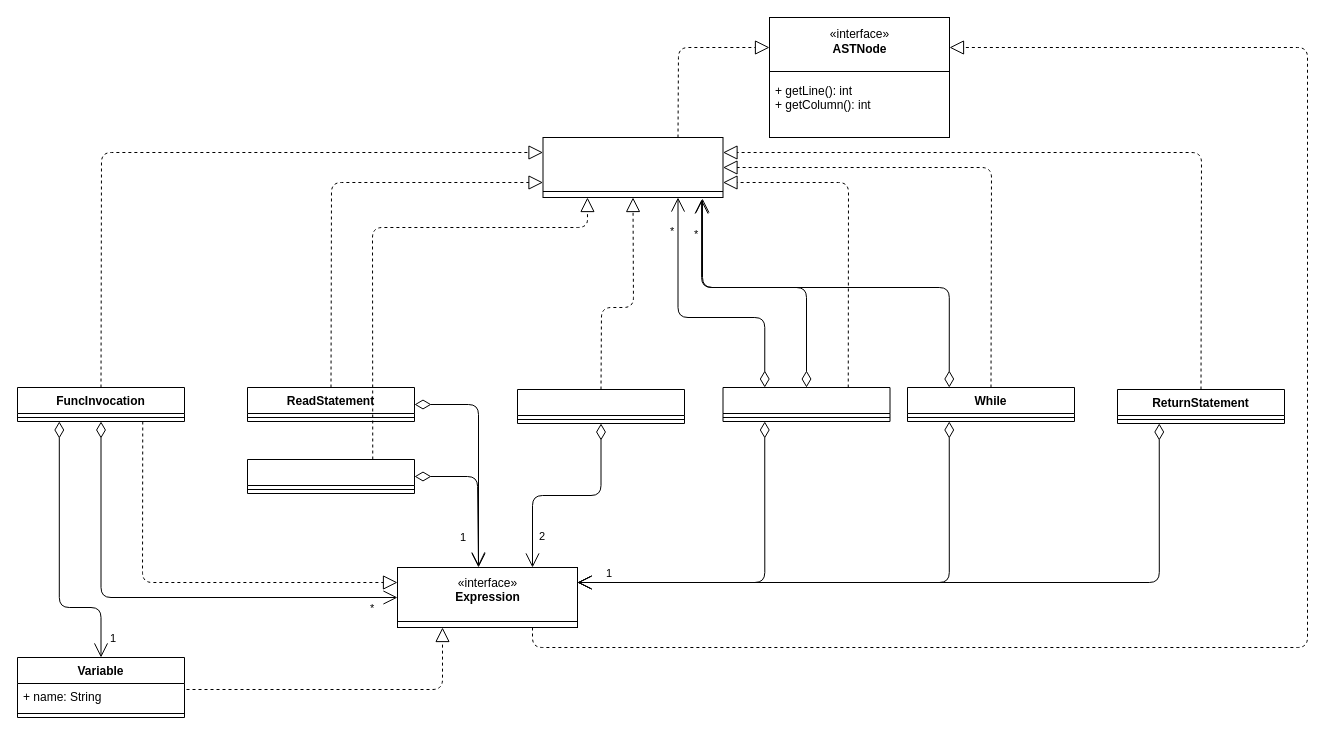
Image size: 1339x735. Some labels were removed from this diagram. The centre of each missing label's shape, as x and y in pixels:
"Assignment" goes at (600,406).
"IfElse" goes at (806,404).
"WriteStatement" goes at (330,476).
"«interface» Statement" goes at (632,167).
